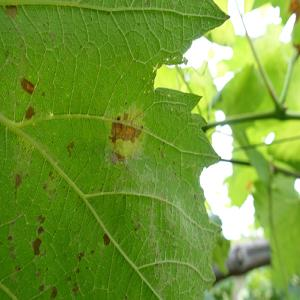Folha: (0, 0, 230, 299)
Fungo: (128, 163, 216, 296), (108, 103, 144, 145), (109, 149, 125, 165), (20, 78, 34, 94), (32, 237, 42, 255), (66, 140, 74, 157), (24, 106, 34, 119), (14, 173, 22, 188), (49, 285, 57, 299), (103, 232, 110, 246), (72, 281, 79, 294), (116, 152, 125, 162), (36, 225, 44, 235), (37, 213, 45, 223), (77, 251, 84, 261), (38, 282, 44, 292), (49, 30, 55, 40), (49, 170, 54, 180), (134, 223, 140, 231), (40, 248, 46, 256), (14, 264, 20, 271), (7, 234, 12, 241), (36, 268, 40, 276), (8, 246, 14, 251), (67, 275, 71, 281), (43, 182, 46, 190), (90, 250, 94, 255), (76, 268, 80, 273), (42, 91, 44, 97)
